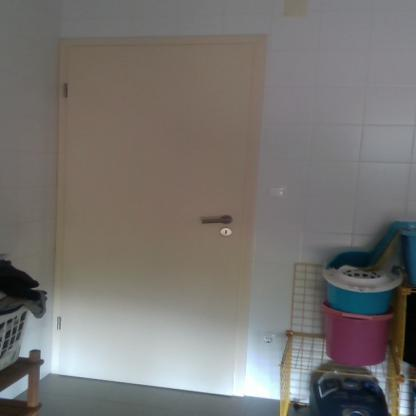door: (65, 46, 243, 394)
hinged: (62, 82, 69, 98), (56, 315, 61, 332)
lever: (198, 214, 235, 226)
